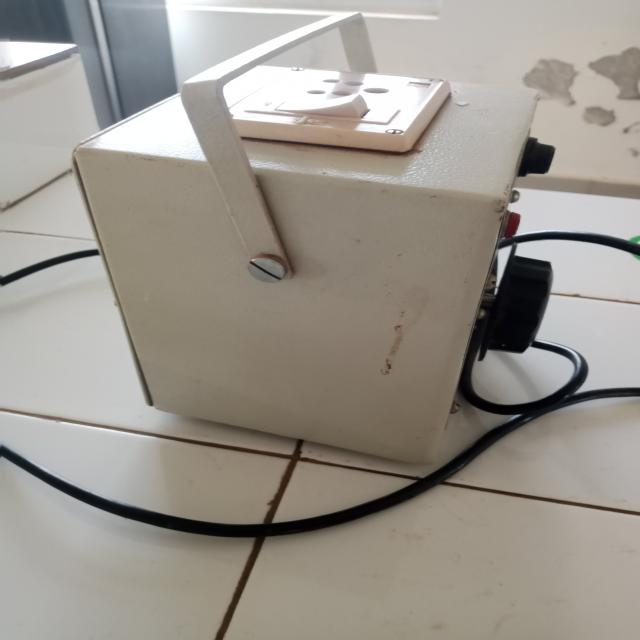Auto Variac AC Transformer 0-280 V: (75, 0, 551, 455)
